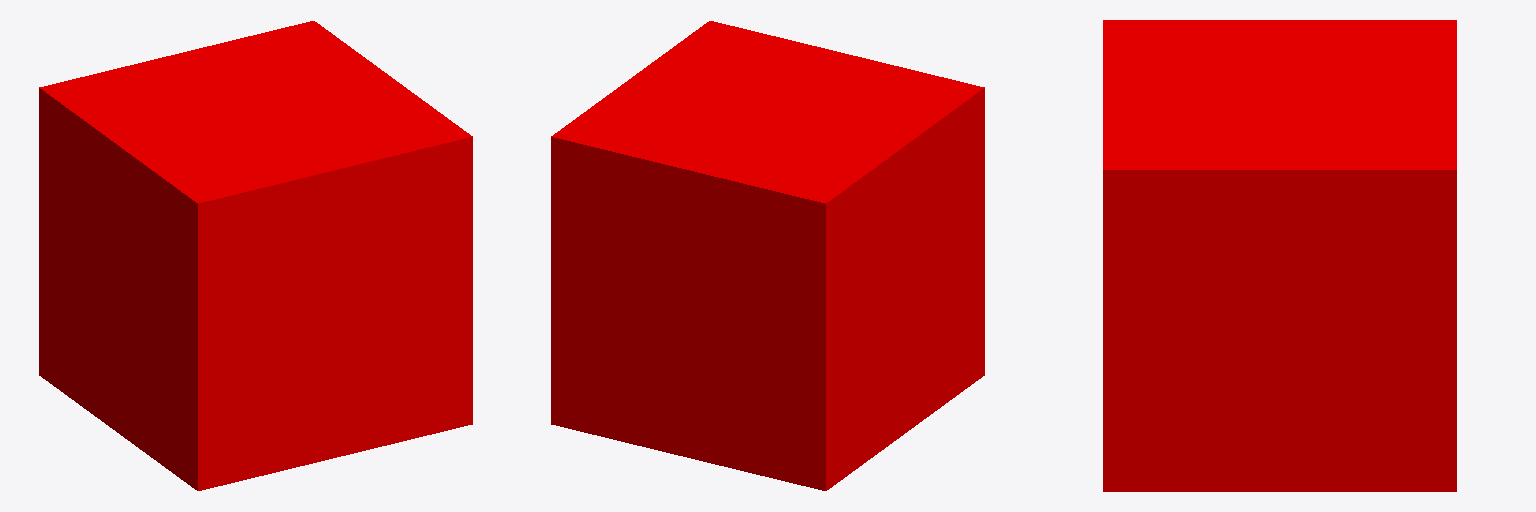
The robot description file, URDF, robot "red_cube":
<?xml version="1.0" ?>
<robot name="red_cube">
  <link name="base_link">
    <inertial>
      <origin rpy="0.0 0.0 0.0" xyz="0.0 0.0 0.0"/>
      <mass value="0.1"/>
      <inertia ixx="4.166666666666668e-05" ixy="0.0" ixz="0.0" iyy="4.166666666666668e-05" iyz="0.0" izz="4.166666666666668e-05"/>
    </inertial>
    <visual>
      <origin rpy="0.0 0.0 0.0" xyz="0.0 0.0 0.025"/>
      <geometry>
        <box size="0.07 0.07 0.07"/>
      </geometry>
      <material name="red">
        <color rgba="1 0 0 1"/>
      </material>
    </visual>
    <collision>
      <origin rpy="0.0 0.0 0.0" xyz="0.0 0.0 0.025"/>
      <geometry>
        <box size="0.07 0.07 0.07"/>
      </geometry>
    </collision>
  </link>
  <gazebo reference="base_link">
    <material>Gazebo/Red</material>
  </gazebo>
</robot>

--- Facts derived from the render (not from the file) ---
The picture shows the robot from 3 angles, left to right: view 1: azimuth 30°, elevation 25°; view 2: azimuth 150°, elevation 25°; view 3: azimuth 270°, elevation 25°; orthographic projection.
Model red_cube with 1 links and 0 joints (none), rooted at base_link, posed every joint at zero.
Links seen in each view (by area): view 1: base_link; view 2: base_link; view 3: base_link.
Link boxes in pixels (<box>): base_link: <box>39,21,472,490</box>; base_link: <box>551,21,984,490</box>; base_link: <box>1103,20,1456,491</box>.
Bounding box of the posed robot: 0.07 × 0.07 × 0.07 m (x, y, z).
Geometry: primitives only (box / cylinder / sphere), no mesh files.